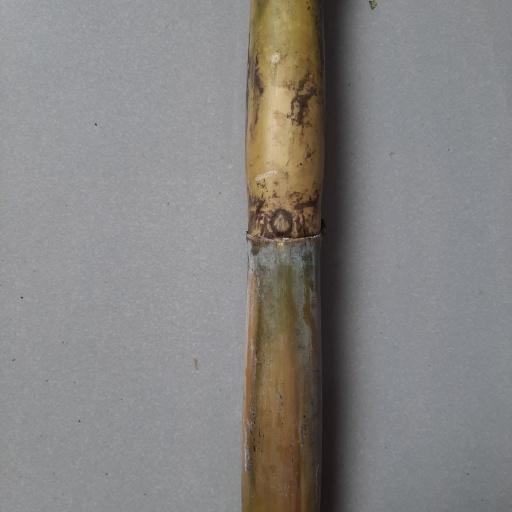Bud: (270, 209, 293, 238)
